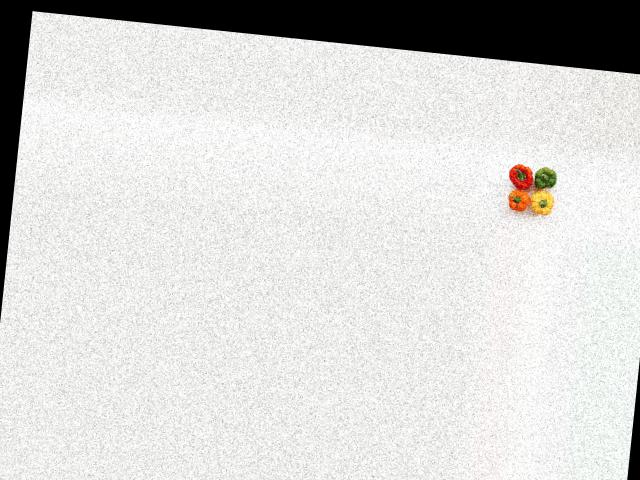bell_pepper: (528, 164, 564, 193)
